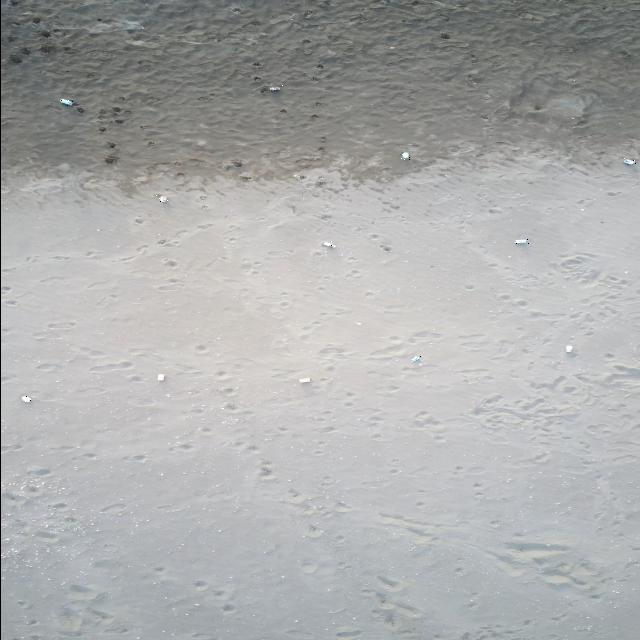Garbage: (156, 193, 167, 203), (292, 172, 304, 180), (60, 98, 75, 104), (323, 240, 335, 247), (20, 395, 31, 402), (513, 238, 528, 243), (411, 355, 420, 363), (268, 85, 280, 91), (300, 376, 310, 383), (564, 344, 572, 352), (400, 151, 408, 159), (156, 372, 163, 380), (624, 158, 635, 163)
